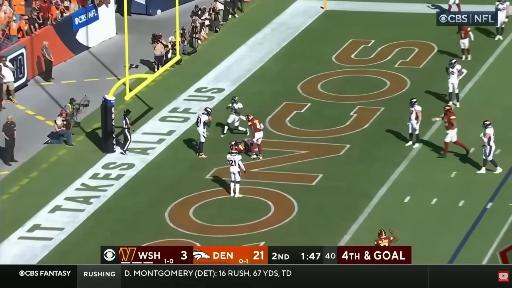Helmet: (449, 59, 457, 67), (444, 105, 452, 112), (483, 120, 491, 127), (378, 230, 386, 237), (410, 98, 418, 105), (204, 108, 211, 116), (237, 144, 244, 152), (230, 146, 238, 153), (231, 96, 238, 103), (246, 115, 252, 121)
Jersey: (227, 153, 244, 171), (448, 64, 462, 82), (442, 112, 456, 130), (249, 119, 263, 133), (496, 2, 509, 17), (197, 114, 209, 130), (484, 127, 494, 145), (375, 236, 393, 246), (410, 105, 421, 121), (235, 141, 249, 153), (230, 102, 242, 116), (460, 27, 470, 39)
Player: (433, 105, 469, 157), (476, 121, 502, 173), (222, 96, 249, 136), (227, 146, 246, 197), (447, 59, 467, 107), (246, 115, 263, 159), (406, 99, 421, 147), (197, 108, 211, 158), (495, 0, 509, 40), (458, 26, 473, 60), (375, 230, 398, 246), (230, 139, 250, 153), (448, 0, 461, 11)
